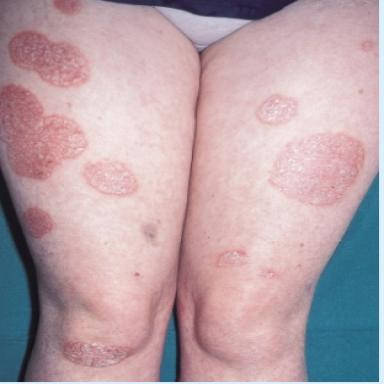Psoriasis: (0, 85, 87, 179), (270, 133, 364, 205), (8, 31, 89, 87), (84, 163, 138, 195), (256, 95, 298, 124), (24, 207, 53, 238), (54, 0, 82, 14)
